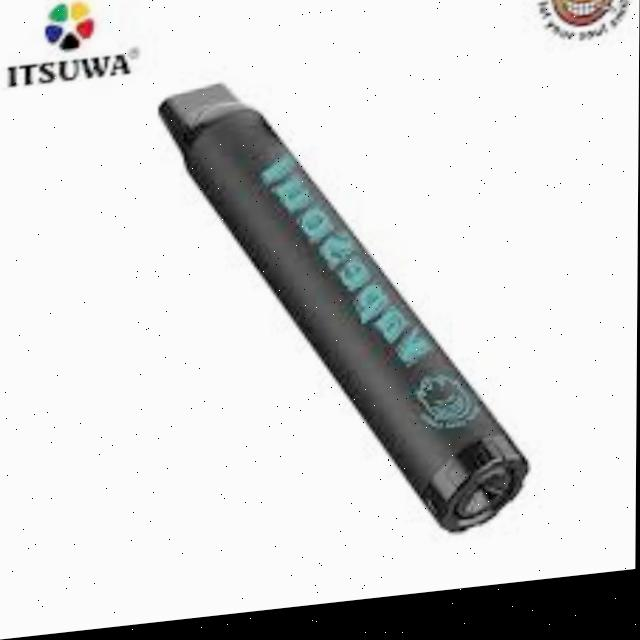vape: (154, 61, 534, 572)
